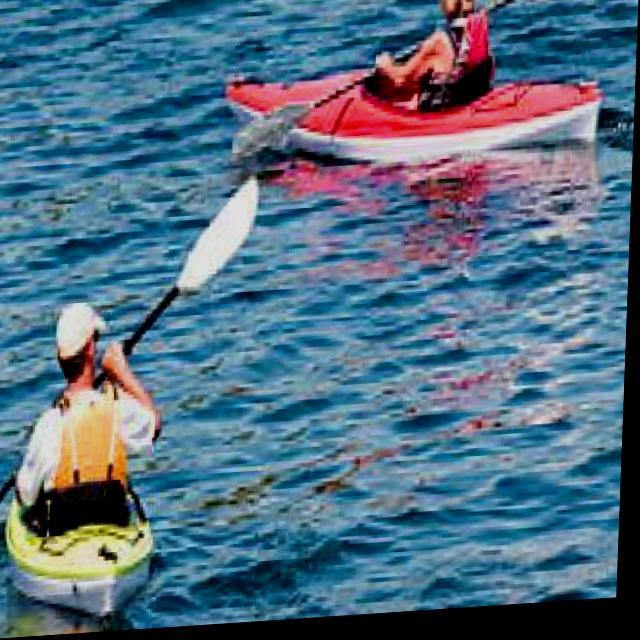kayak: (228, 78, 604, 168), (11, 402, 160, 615)
